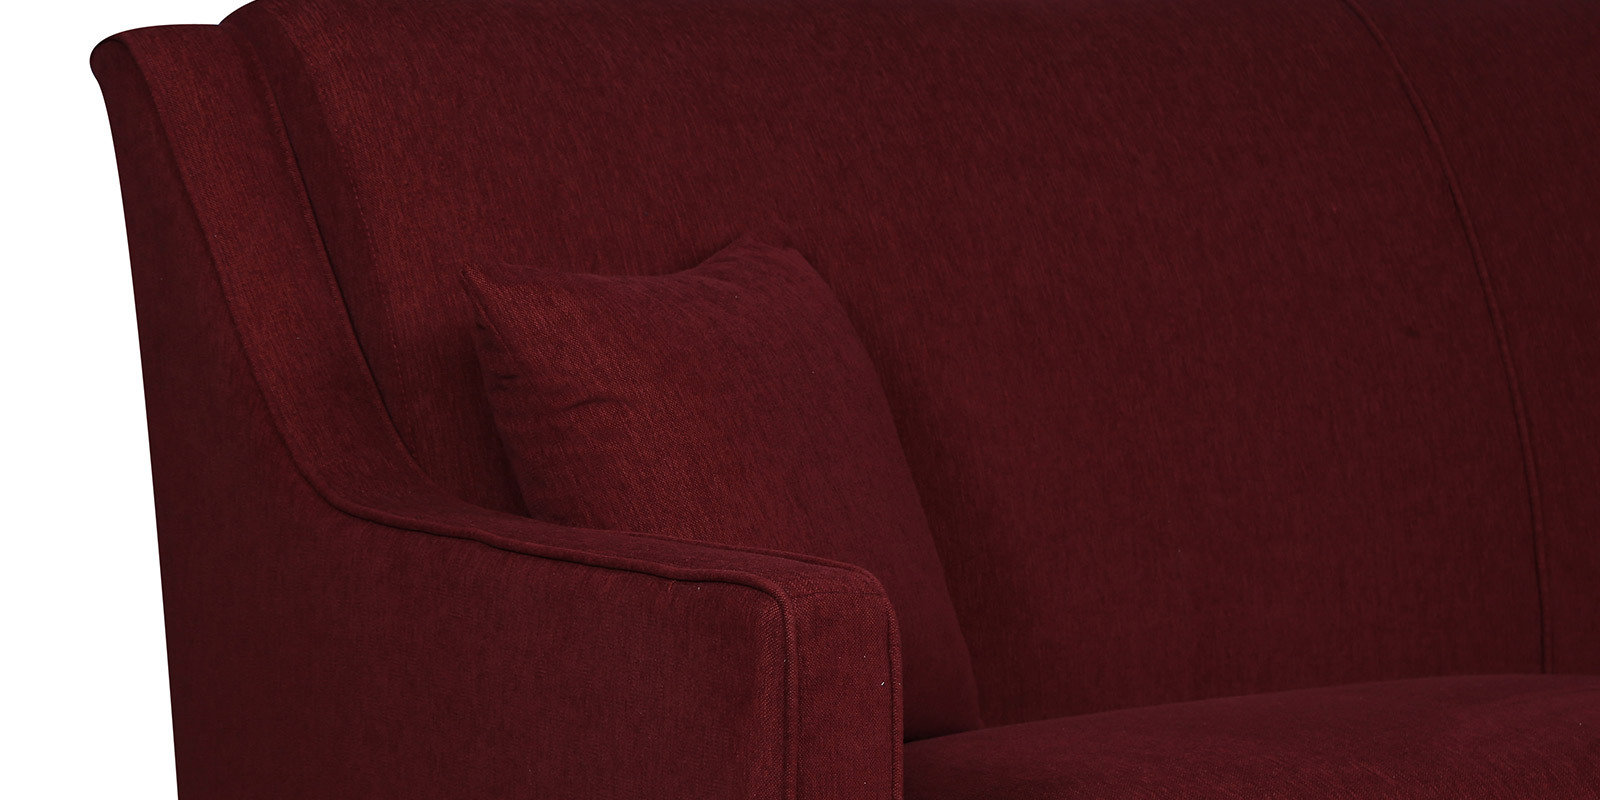Oscar Three Seater Sofa in Garnet Red Colour by CasaCraft: (87, 1, 1597, 800)
